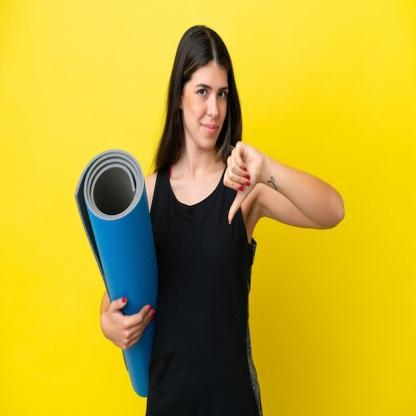thumb_down: (217, 136, 263, 228)
